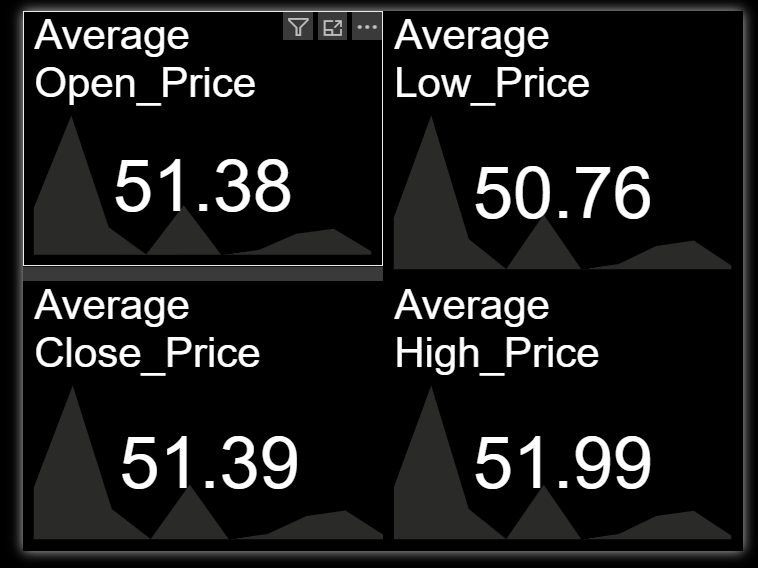

What the dashboard file says about the page in this screenshot:
{"tool":"powerbi","page":{"name":"tooltip-2","canvas":[320,240],"ordinal":4},"visuals":[{"type":"kpi","title":"Average Open_Price","fields":{"Indicator":["Avg(investment_bank_stock_prices.Open_Price)"],"TrendLine":["investment_bank_stock_prices.Bank_Name"]},"box":[0,0,160,113.5],"z":0},{"type":"kpi","title":"Average Close_Price","fields":{"Indicator":["Avg(investment_bank_stock_prices.Close_Price)"],"TrendLine":["investment_bank_stock_prices.Bank_Name"]},"box":[0,120,165.9,120],"z":1000},{"type":"kpi","title":"Average High_Price ","fields":{"Indicator":["Avg(investment_bank_stock_prices.High_Price)"],"TrendLine":["investment_bank_stock_prices.Bank_Name"]},"box":[160,120,160,120],"z":2000},{"type":"kpi","title":"Average Low_Price","fields":{"Indicator":["Avg(investment_bank_stock_prices.Low_Price)"],"TrendLine":["investment_bank_stock_prices.Bank_Name"]},"box":[160,0,160,120],"z":3000}]}

Visuals, with their boxes in screenshot pixels (x1, y1, x2, y2), scaled from the page's 320x240 canvas onto the 758x568 screenshot:
"Average Open_Price" kpi: crop(0, 0, 379, 269)
"Average Close_Price" kpi: crop(0, 284, 393, 567)
"Average High_Price " kpi: crop(379, 284, 757, 567)
"Average Low_Price" kpi: crop(379, 0, 757, 284)
